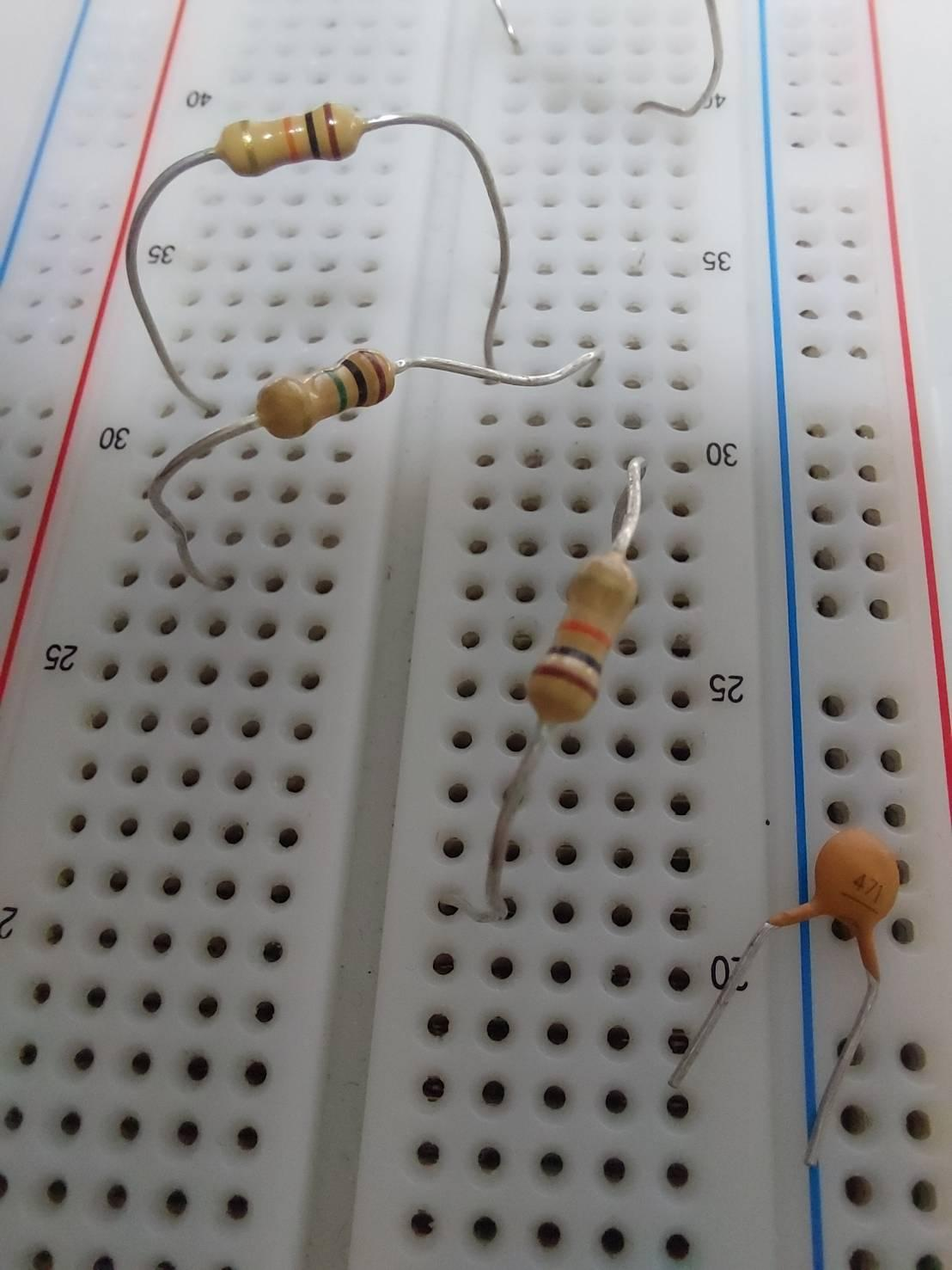resistor: (527, 547, 638, 724), (255, 351, 403, 436), (218, 104, 362, 177)
